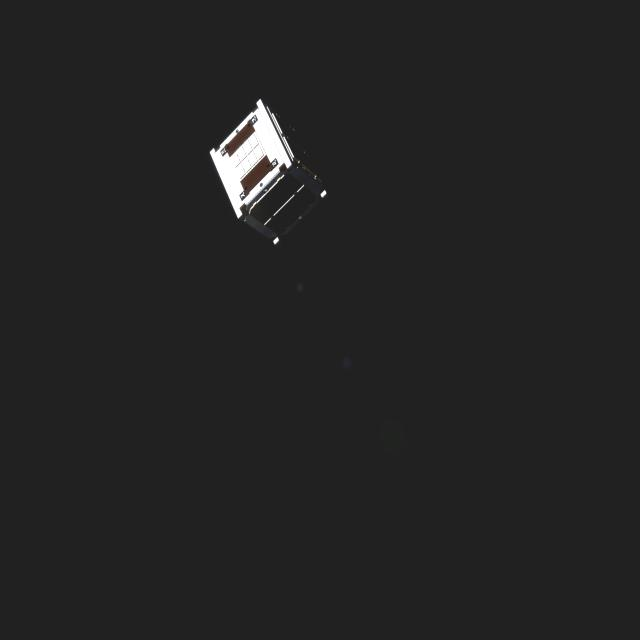satellite: (198, 90, 329, 244)
